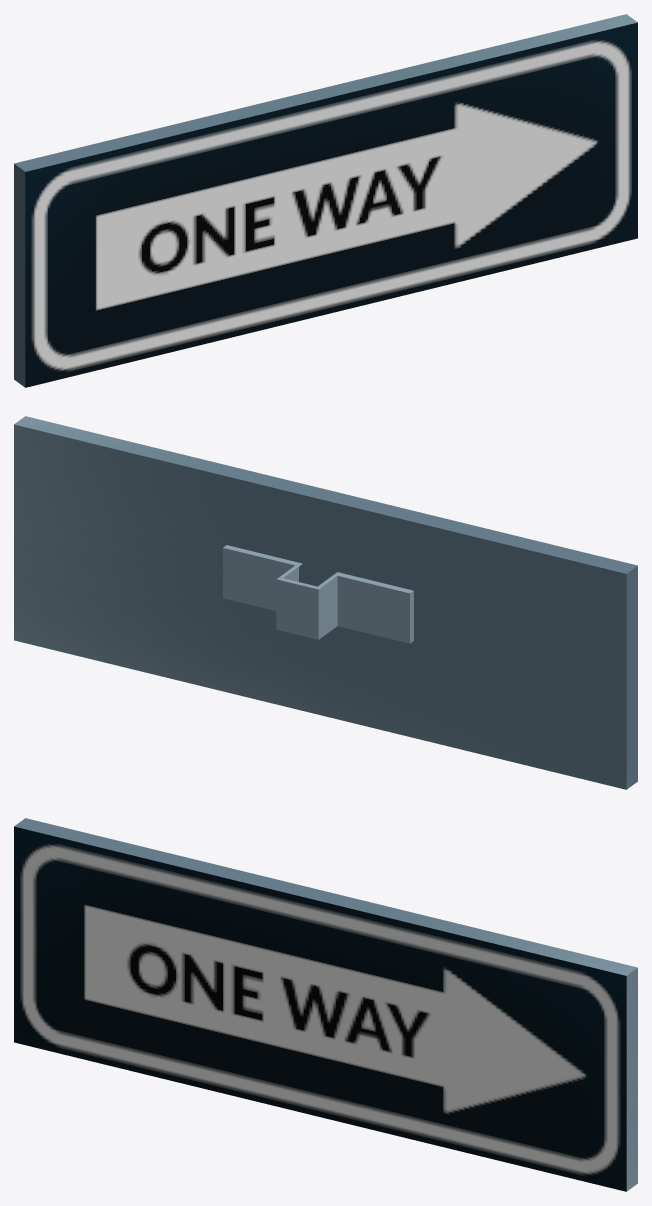
Rendered from Sign46.fbx.
3 renders of one model, top to bottom at view 1: azimuth 30°, elevation 25°; view 2: azimuth 150°, elevation 25°; view 3: azimuth 330°, elevation 25°, orthographic.
Visible parts, largest first — view 1: Sign46; view 2: Sign46; view 3: Sign46.
Boxes of the visible parts, bbox=[...] form: Sign46: bbox=[14, 14, 637, 387]; Sign46: bbox=[14, 416, 637, 789]; Sign46: bbox=[14, 818, 637, 1191].
Bounding box in the file's own units: 1.54 × 0.1489 × 0.5195.
